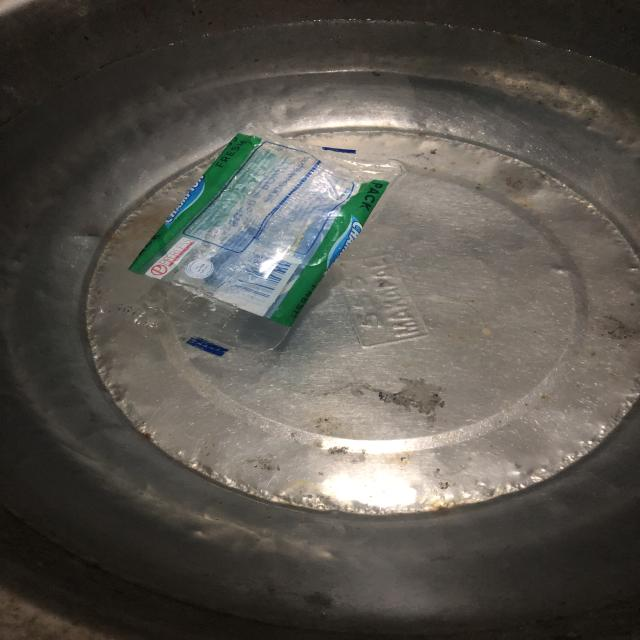Plastic Wrapper: (89, 137, 399, 382)
